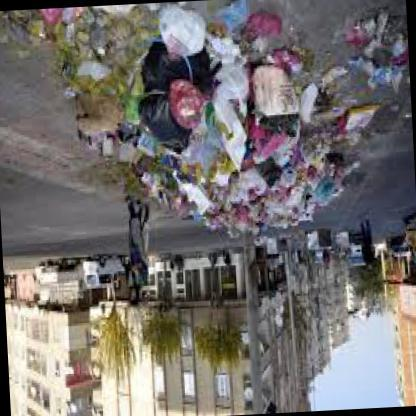Garbage: (213, 0, 327, 231), (220, 0, 320, 163), (0, 7, 111, 82), (338, 0, 409, 96), (253, 54, 300, 122), (160, 2, 208, 64), (134, 94, 182, 152), (236, 118, 292, 166), (325, 107, 369, 158), (80, 67, 135, 104), (174, 78, 207, 138), (90, 124, 140, 161), (130, 168, 178, 202), (310, 164, 346, 204), (166, 193, 212, 223), (229, 177, 259, 203), (282, 170, 302, 196)
